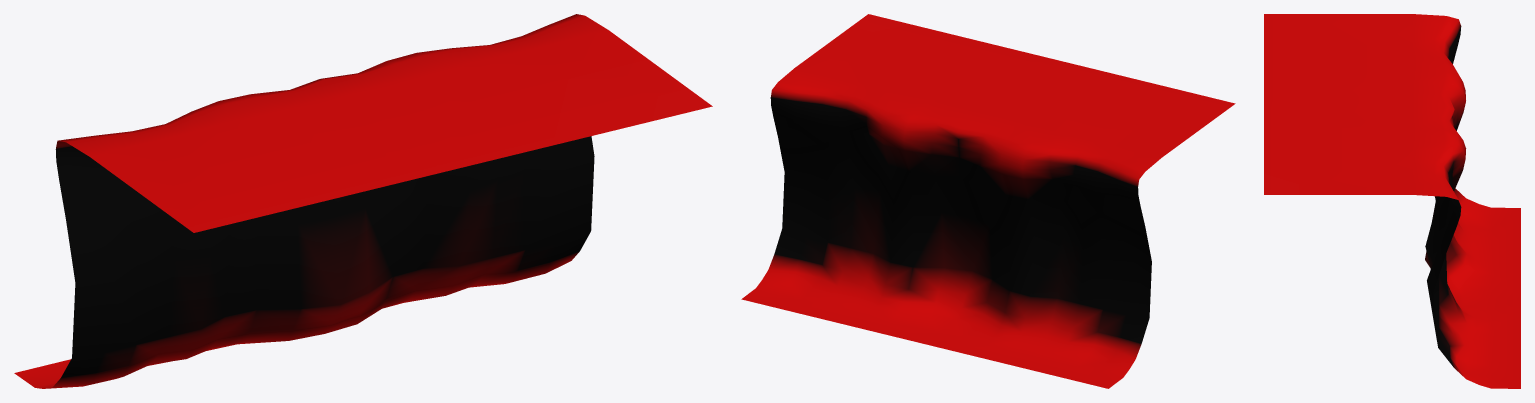
Rendered from GroundCliff01A 1M Background.fbx.
3 renders of one model, left to right at view 1: azimuth 30°, elevation 25°; view 2: azimuth 150°, elevation 25°; view 3: azimuth 270°, elevation 25°, orthographic. The views are drawn at different scales.
Parts seen in each view (by area): view 1: GroundCliff01A 1M Background; view 2: GroundCliff01A 1M Background; view 3: GroundCliff01A 1M Background.
Boxes of the visible parts, left/top/right/bottom form: GroundCliff01A 1M Background: left=14, top=14, right=712, bottom=388; GroundCliff01A 1M Background: left=741, top=14, right=1235, bottom=388; GroundCliff01A 1M Background: left=1264, top=14, right=1520, bottom=388.
Size of the model in its own units: 2 by 1 by 1.2.
